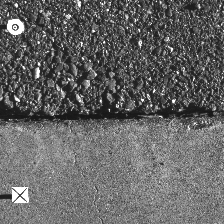circle: (6, 18, 24, 36)
crack: (1, 106, 223, 123)
square: (11, 186, 28, 202)
